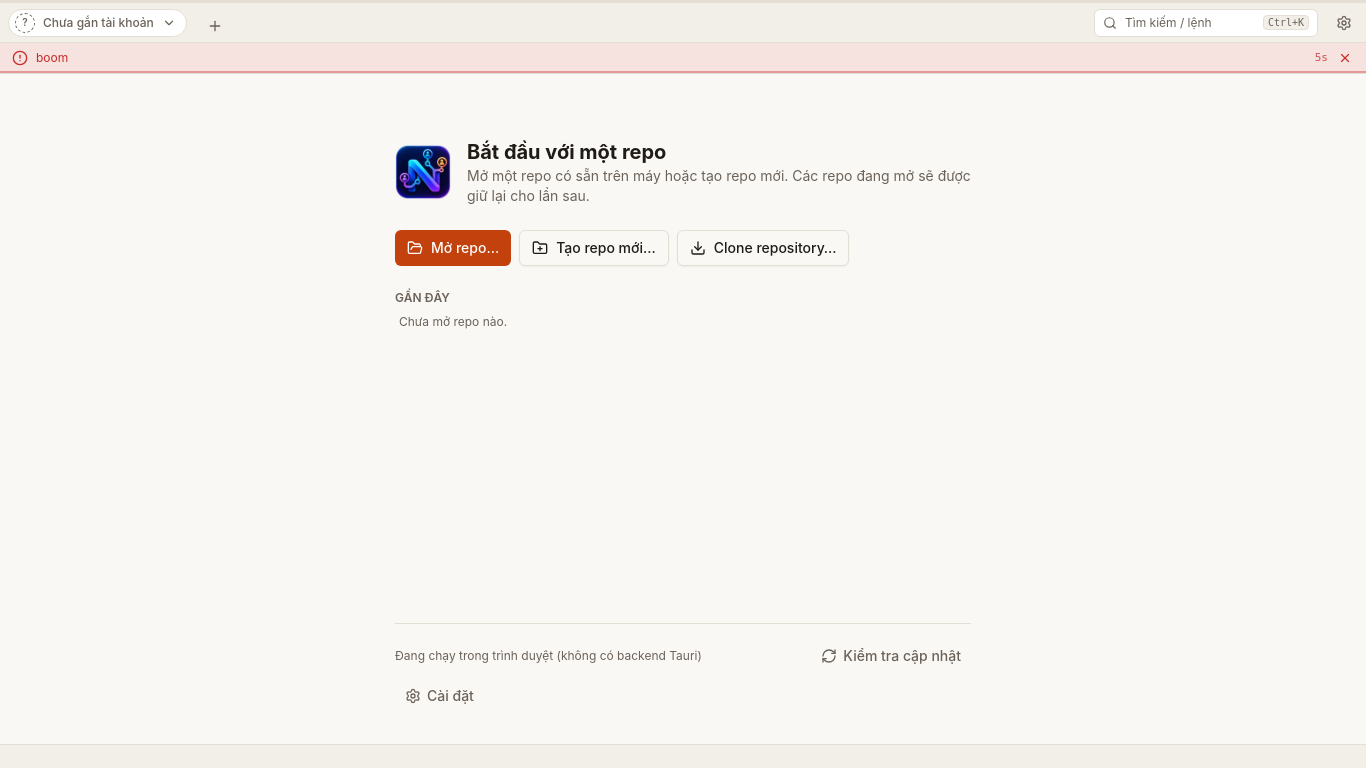
App › shows an error notice that can be dismissed
Expected: the message shows "boom", [36, 50, 68, 65]
Click the button named "Ẩn".
click(1345, 58)  # box [1336, 49, 1354, 67]
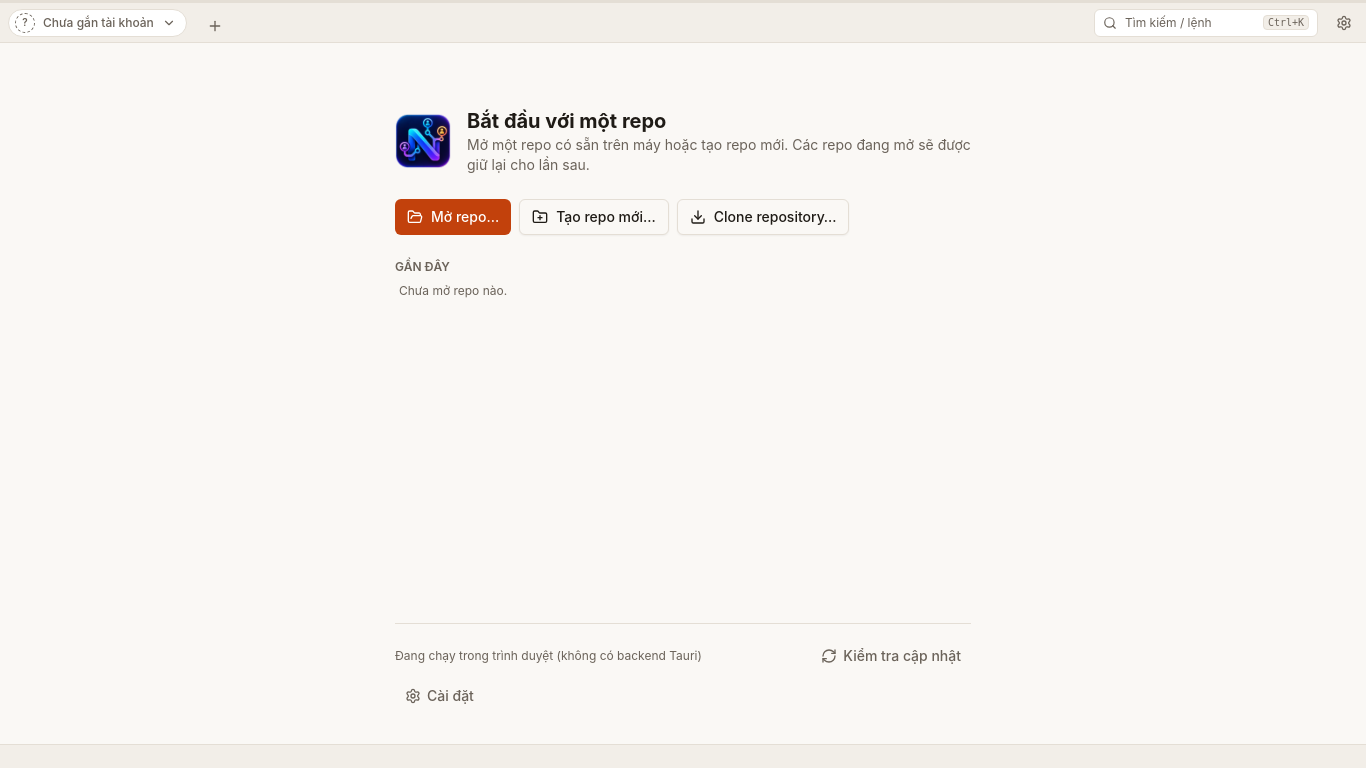
Result: the message "boom 5s" is gone
